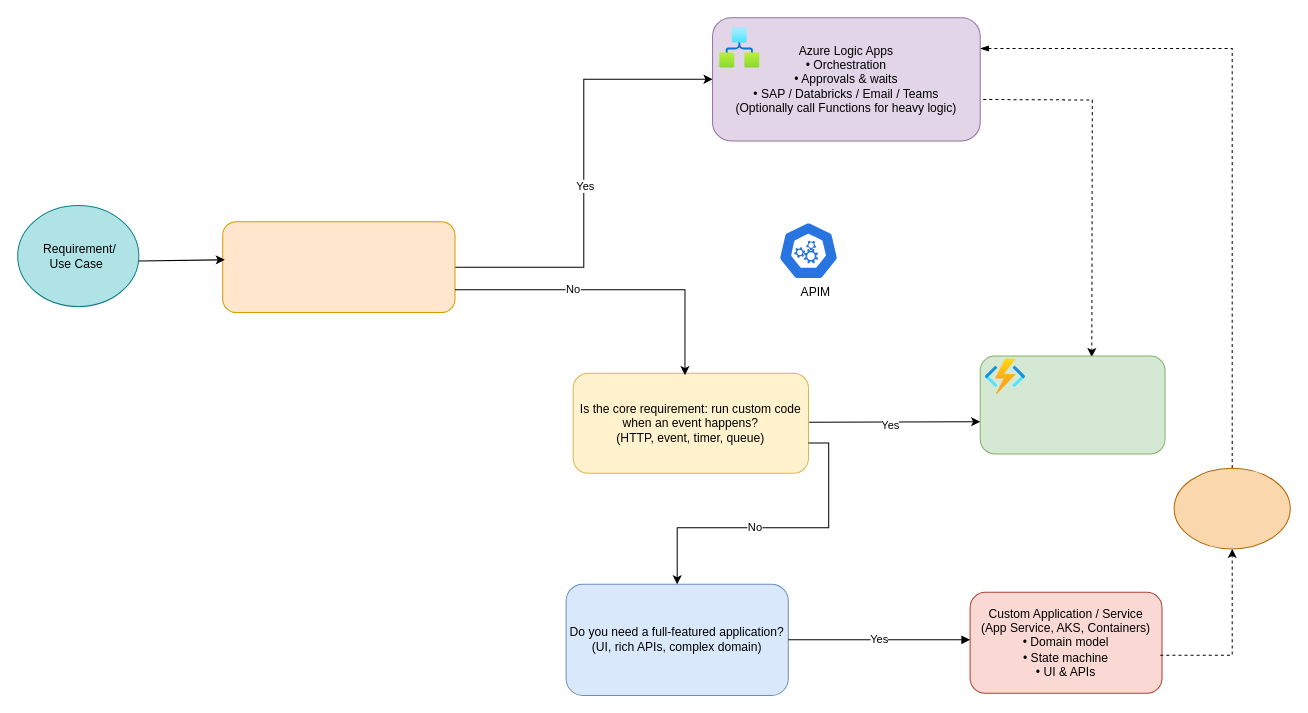
Image size: 1308x713. Some labels were removed from this diagram. Here are the shapes that lost their labels. From the top down, the box of each, then its label:
(222, 221, 455, 313): Is this primarily cross-system workflow or integration?
(979, 355, 1165, 454): Azure Functions • Event-driven code • Self-contained logic • Low latency
(1173, 467, 1290, 549): Custom Approval Microservice
